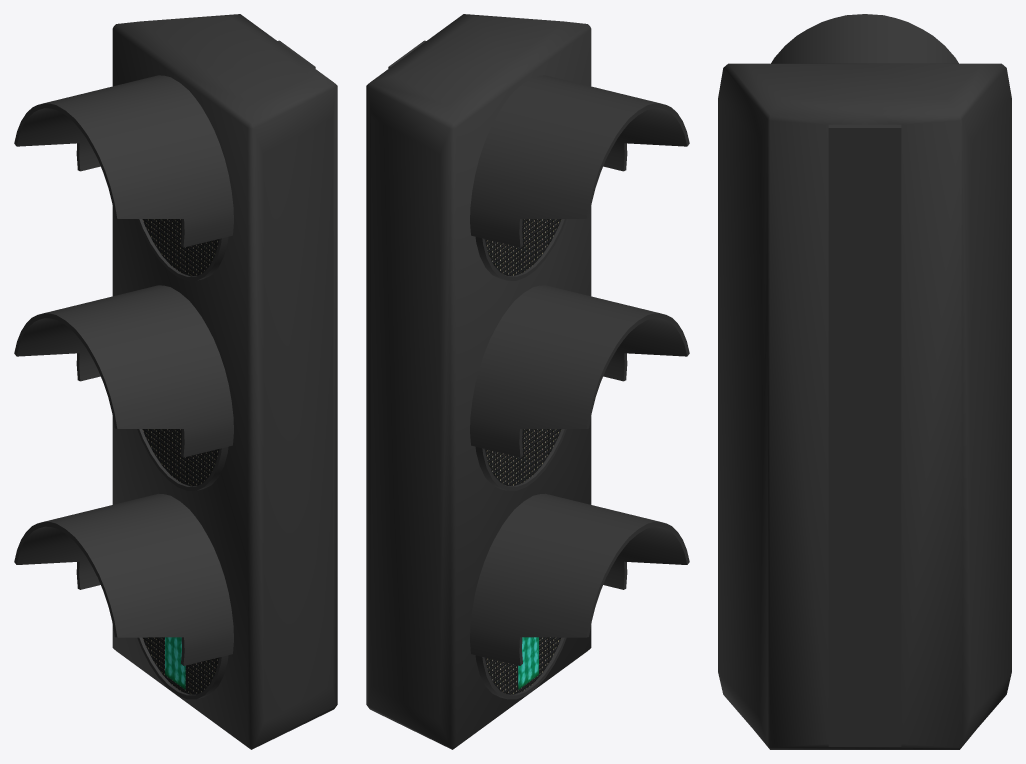
File: 竖排直行灯_GreenLight.fbx
3 renders of one model, left to right at view 1: azimuth 30°, elevation 25°; view 2: azimuth 150°, elevation 25°; view 3: azimuth 270°, elevation 25°, orthographic.
Parts seen in each view (by area): view 1: 竖排直行灯_GreenLight; view 2: 竖排直行灯_GreenLight; view 3: 竖排直行灯_GreenLight.
Part boxes in pixels (x1=…): 竖排直行灯_GreenLight: x1=14, y1=14, x2=337, y2=749; 竖排直行灯_GreenLight: x1=366, y1=14, x2=689, y2=749; 竖排直行灯_GreenLight: x1=718, y1=14, x2=1011, y2=749.
Bounding box in the file's own units: 0.6 × 1.58 × 0.65.
3 materials, 2 textured.
